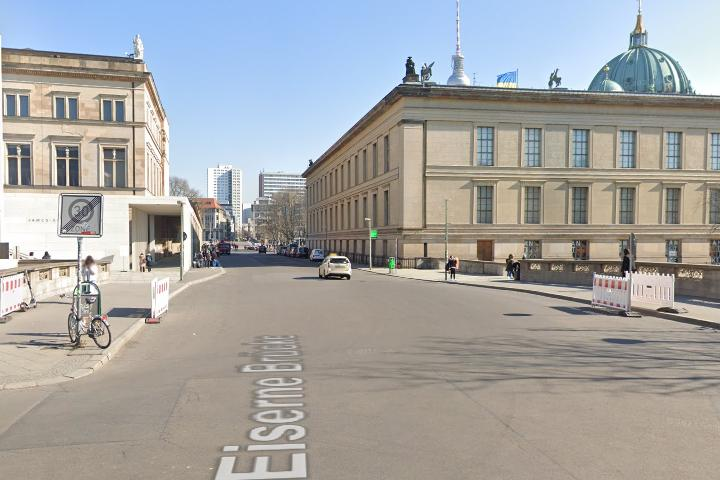traffic_sign: (67, 198, 94, 224)
vehicle: (314, 253, 354, 281)
